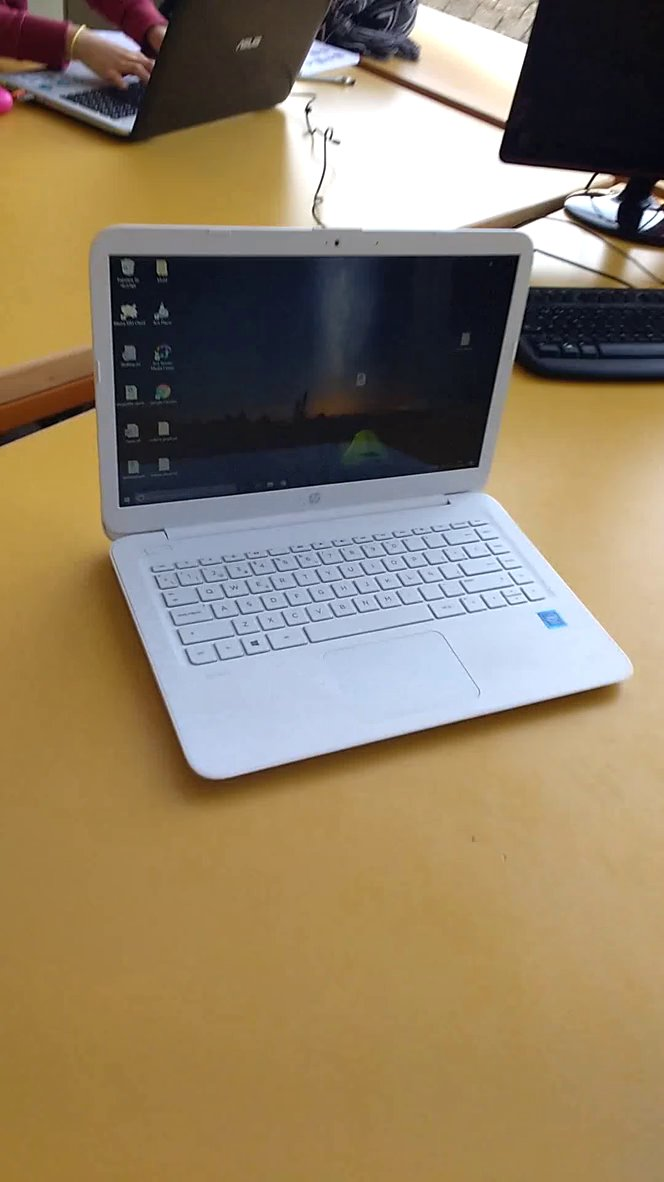laptop: (85, 214, 643, 794), (4, 1, 362, 166)
